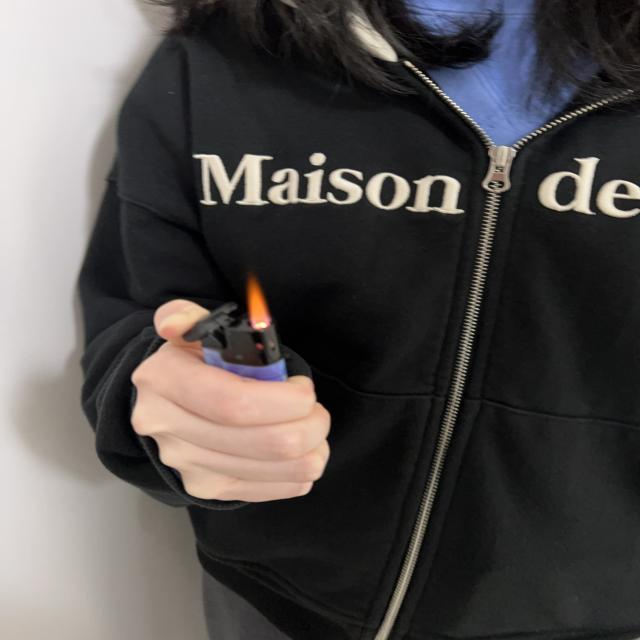fire: (241, 274, 274, 327)
